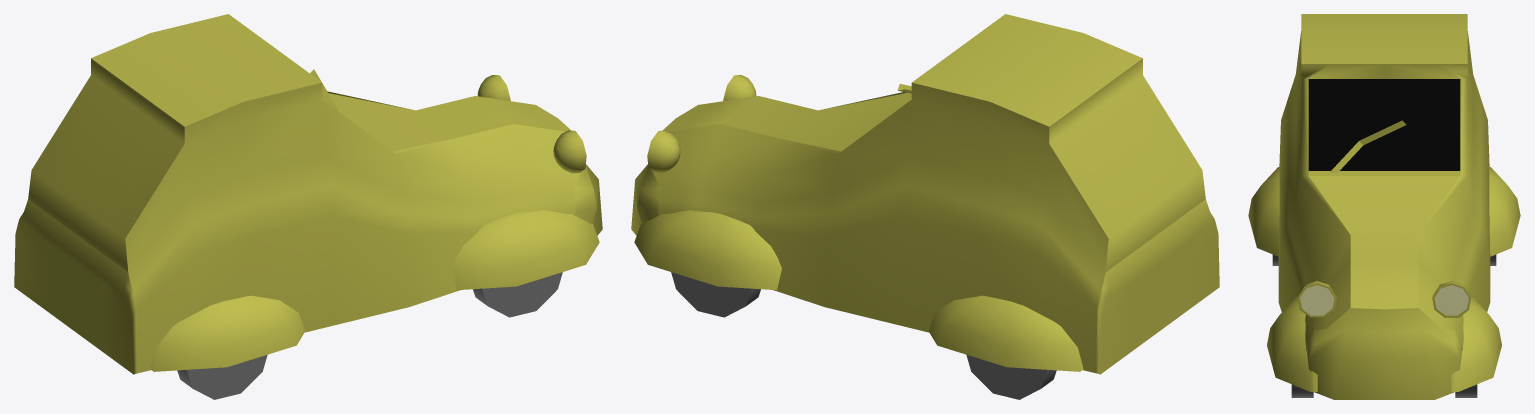
The model's file is SM_SmallCar.fbx.
3 renders of one model, left to right at view 1: azimuth 30°, elevation 25°; view 2: azimuth 150°, elevation 25°; view 3: azimuth 270°, elevation 25°, orthographic. The views are drawn at different scales.
Parts seen in each view (by area): view 1: SM_SmallCar; view 2: SM_SmallCar; view 3: SM_SmallCar.
Part boxes in pixels (bbox=[...]): SM_SmallCar: bbox=[14, 14, 602, 399]; SM_SmallCar: bbox=[631, 14, 1219, 399]; SM_SmallCar: bbox=[1248, 14, 1520, 399].
Bounding box in the file's own units: 1.34 × 0.7058 × 0.7141.
